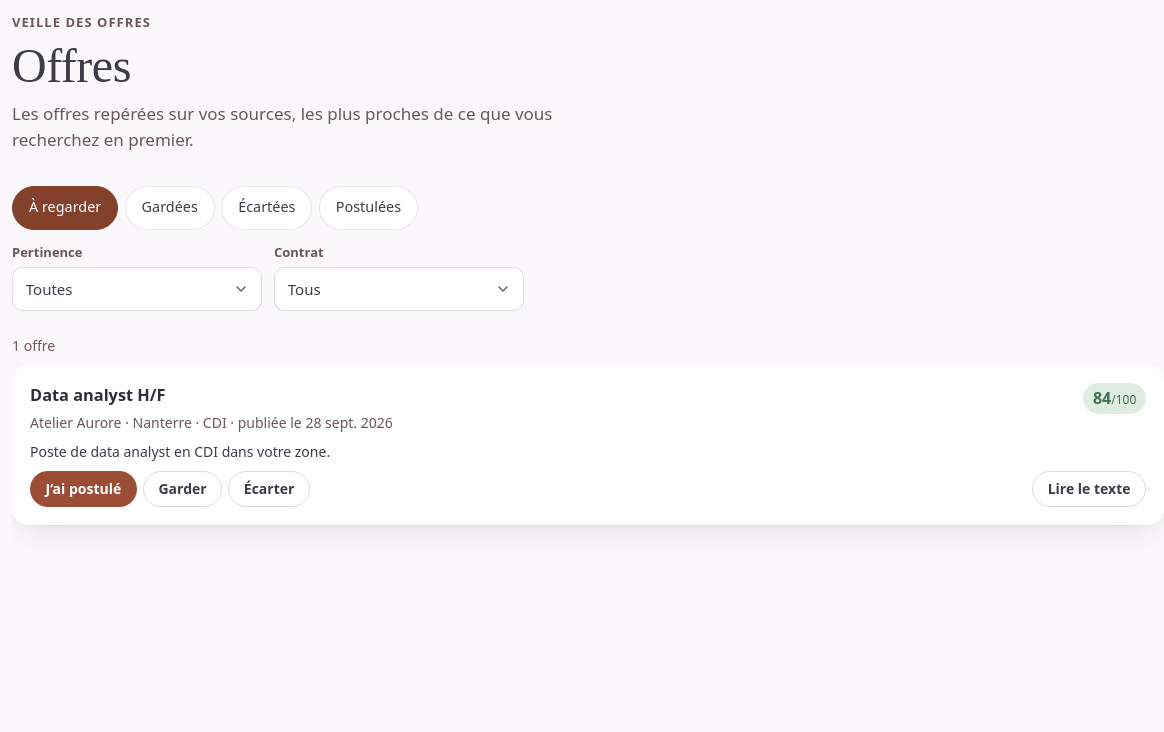
OffersPage › [EF-VEI-18] moves a dismissed offer out of the list, without reloading it
Click the button "Écarter" at (269,489), box [228,471,310,507]
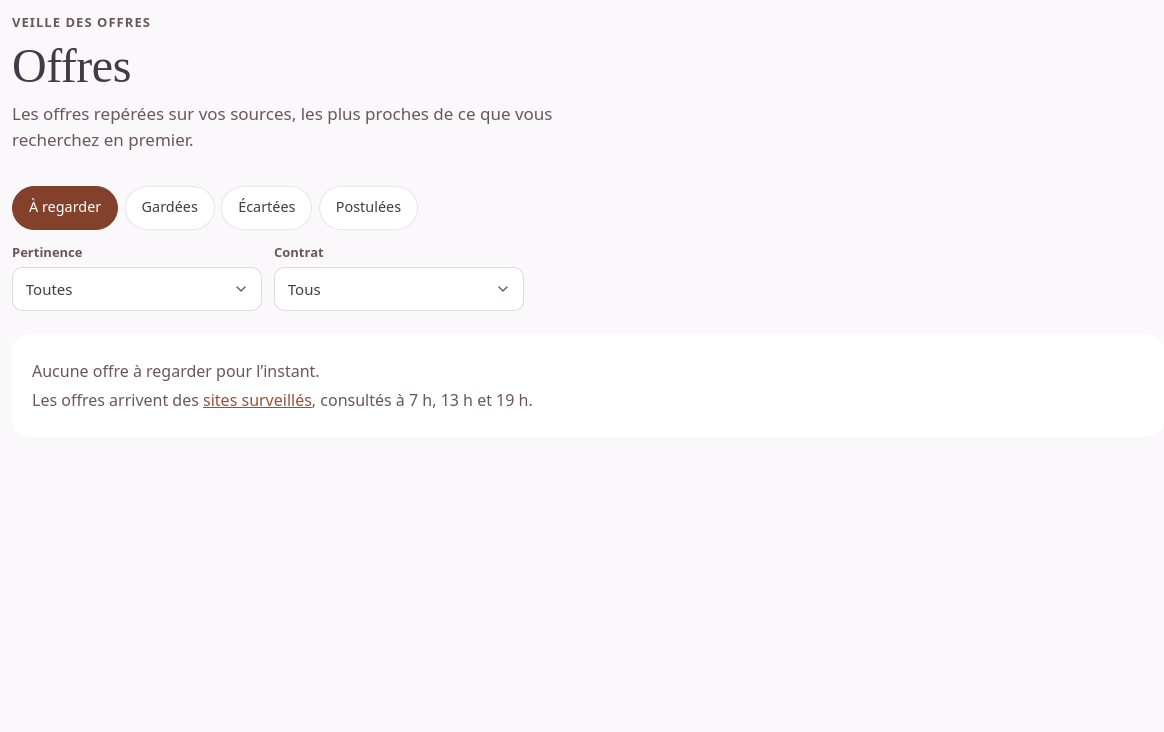
expect the text "Aucune offre à regarder pour l’instant." is shown: met, box [32,360,320,382]
